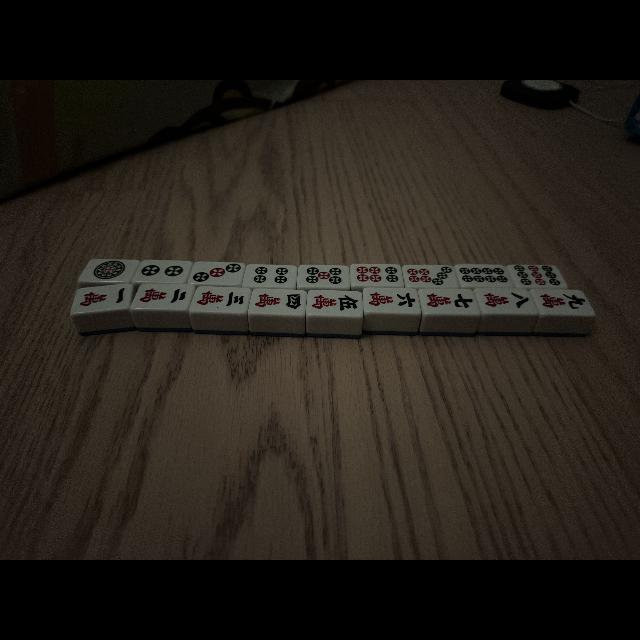c1: (74, 284, 130, 312)
c2: (133, 283, 191, 311)
c3: (193, 287, 247, 313)
c4: (250, 288, 306, 314)
c5: (307, 290, 363, 316)
c6: (363, 288, 419, 312)
c7: (422, 288, 476, 314)
c8: (480, 290, 534, 314)
c9: (537, 289, 589, 315)
d1: (82, 260, 134, 282)
d2: (136, 260, 190, 282)
d3: (190, 262, 244, 284)
d4: (244, 264, 296, 288)
d5: (298, 265, 349, 287)
d6: (350, 264, 402, 288)
d7: (404, 266, 456, 288)
d8: (457, 263, 509, 287)
d9: (509, 264, 563, 288)
